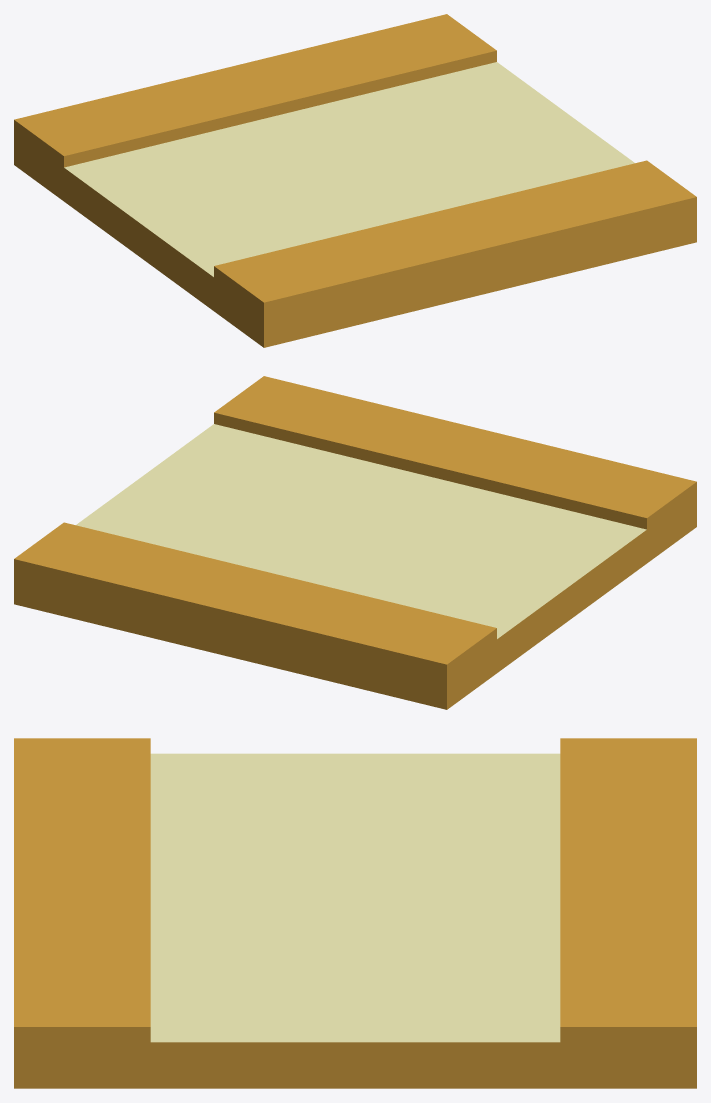
Rendered from road.fbx.
3 renders of one model, top to bottom at view 1: azimuth 30°, elevation 25°; view 2: azimuth 150°, elevation 25°; view 3: azimuth 270°, elevation 25°, orthographic. The views are drawn at different scales.
Visible parts, largest first — view 1: Road; view 2: Road; view 3: Road.
Part boxes in pixels (left/top/right/bottom): Road: left=14, top=14, right=696, bottom=347; Road: left=14, top=376, right=696, bottom=709; Road: left=14, top=738, right=696, bottom=1088.
Size of the model in its own units: 200 by 20 by 200.
